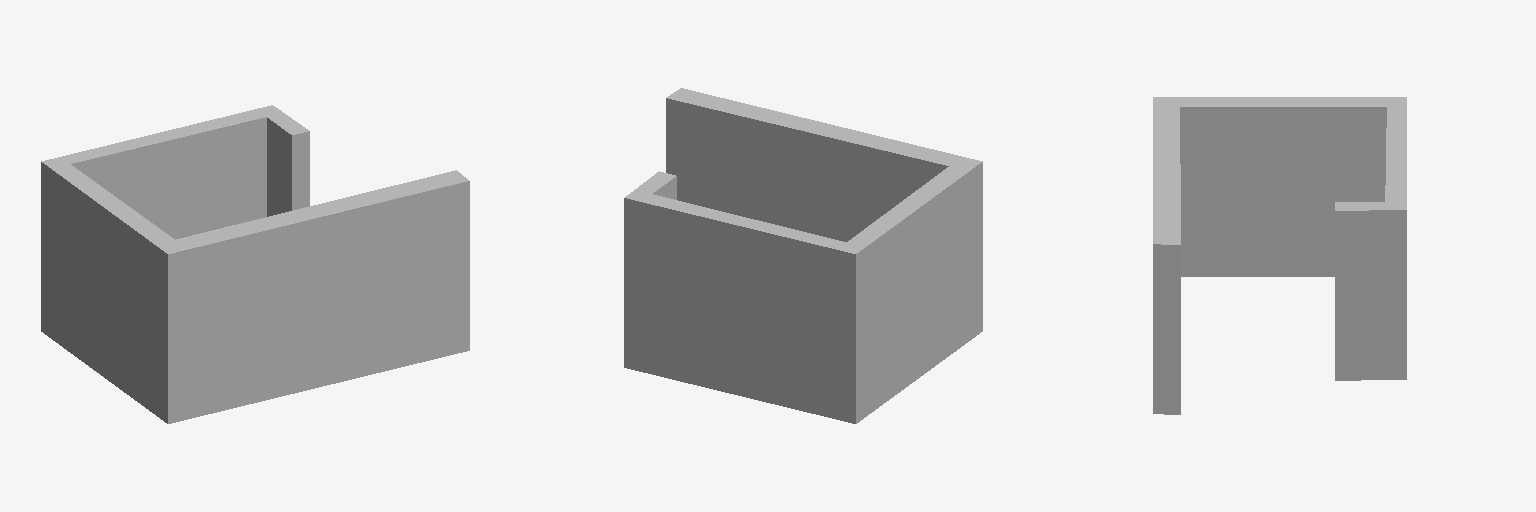
File: bright_vending.obj
3 renders of one model, left to right at view 1: azimuth 30°, elevation 25°; view 2: azimuth 150°, elevation 25°; view 3: azimuth 270°, elevation 25°, orthographic.
Parts seen in each view (by area): view 1: polySurface7; view 2: polySurface7; view 3: polySurface7.
Boxes of the visible parts, box(x1,y1,x2,y2) form: polySurface7: box(41, 105, 469, 423); polySurface7: box(624, 88, 982, 423); polySurface7: box(1153, 97, 1406, 414).
Bounding box in the file's own units: 36 × 19.3 × 26.13.